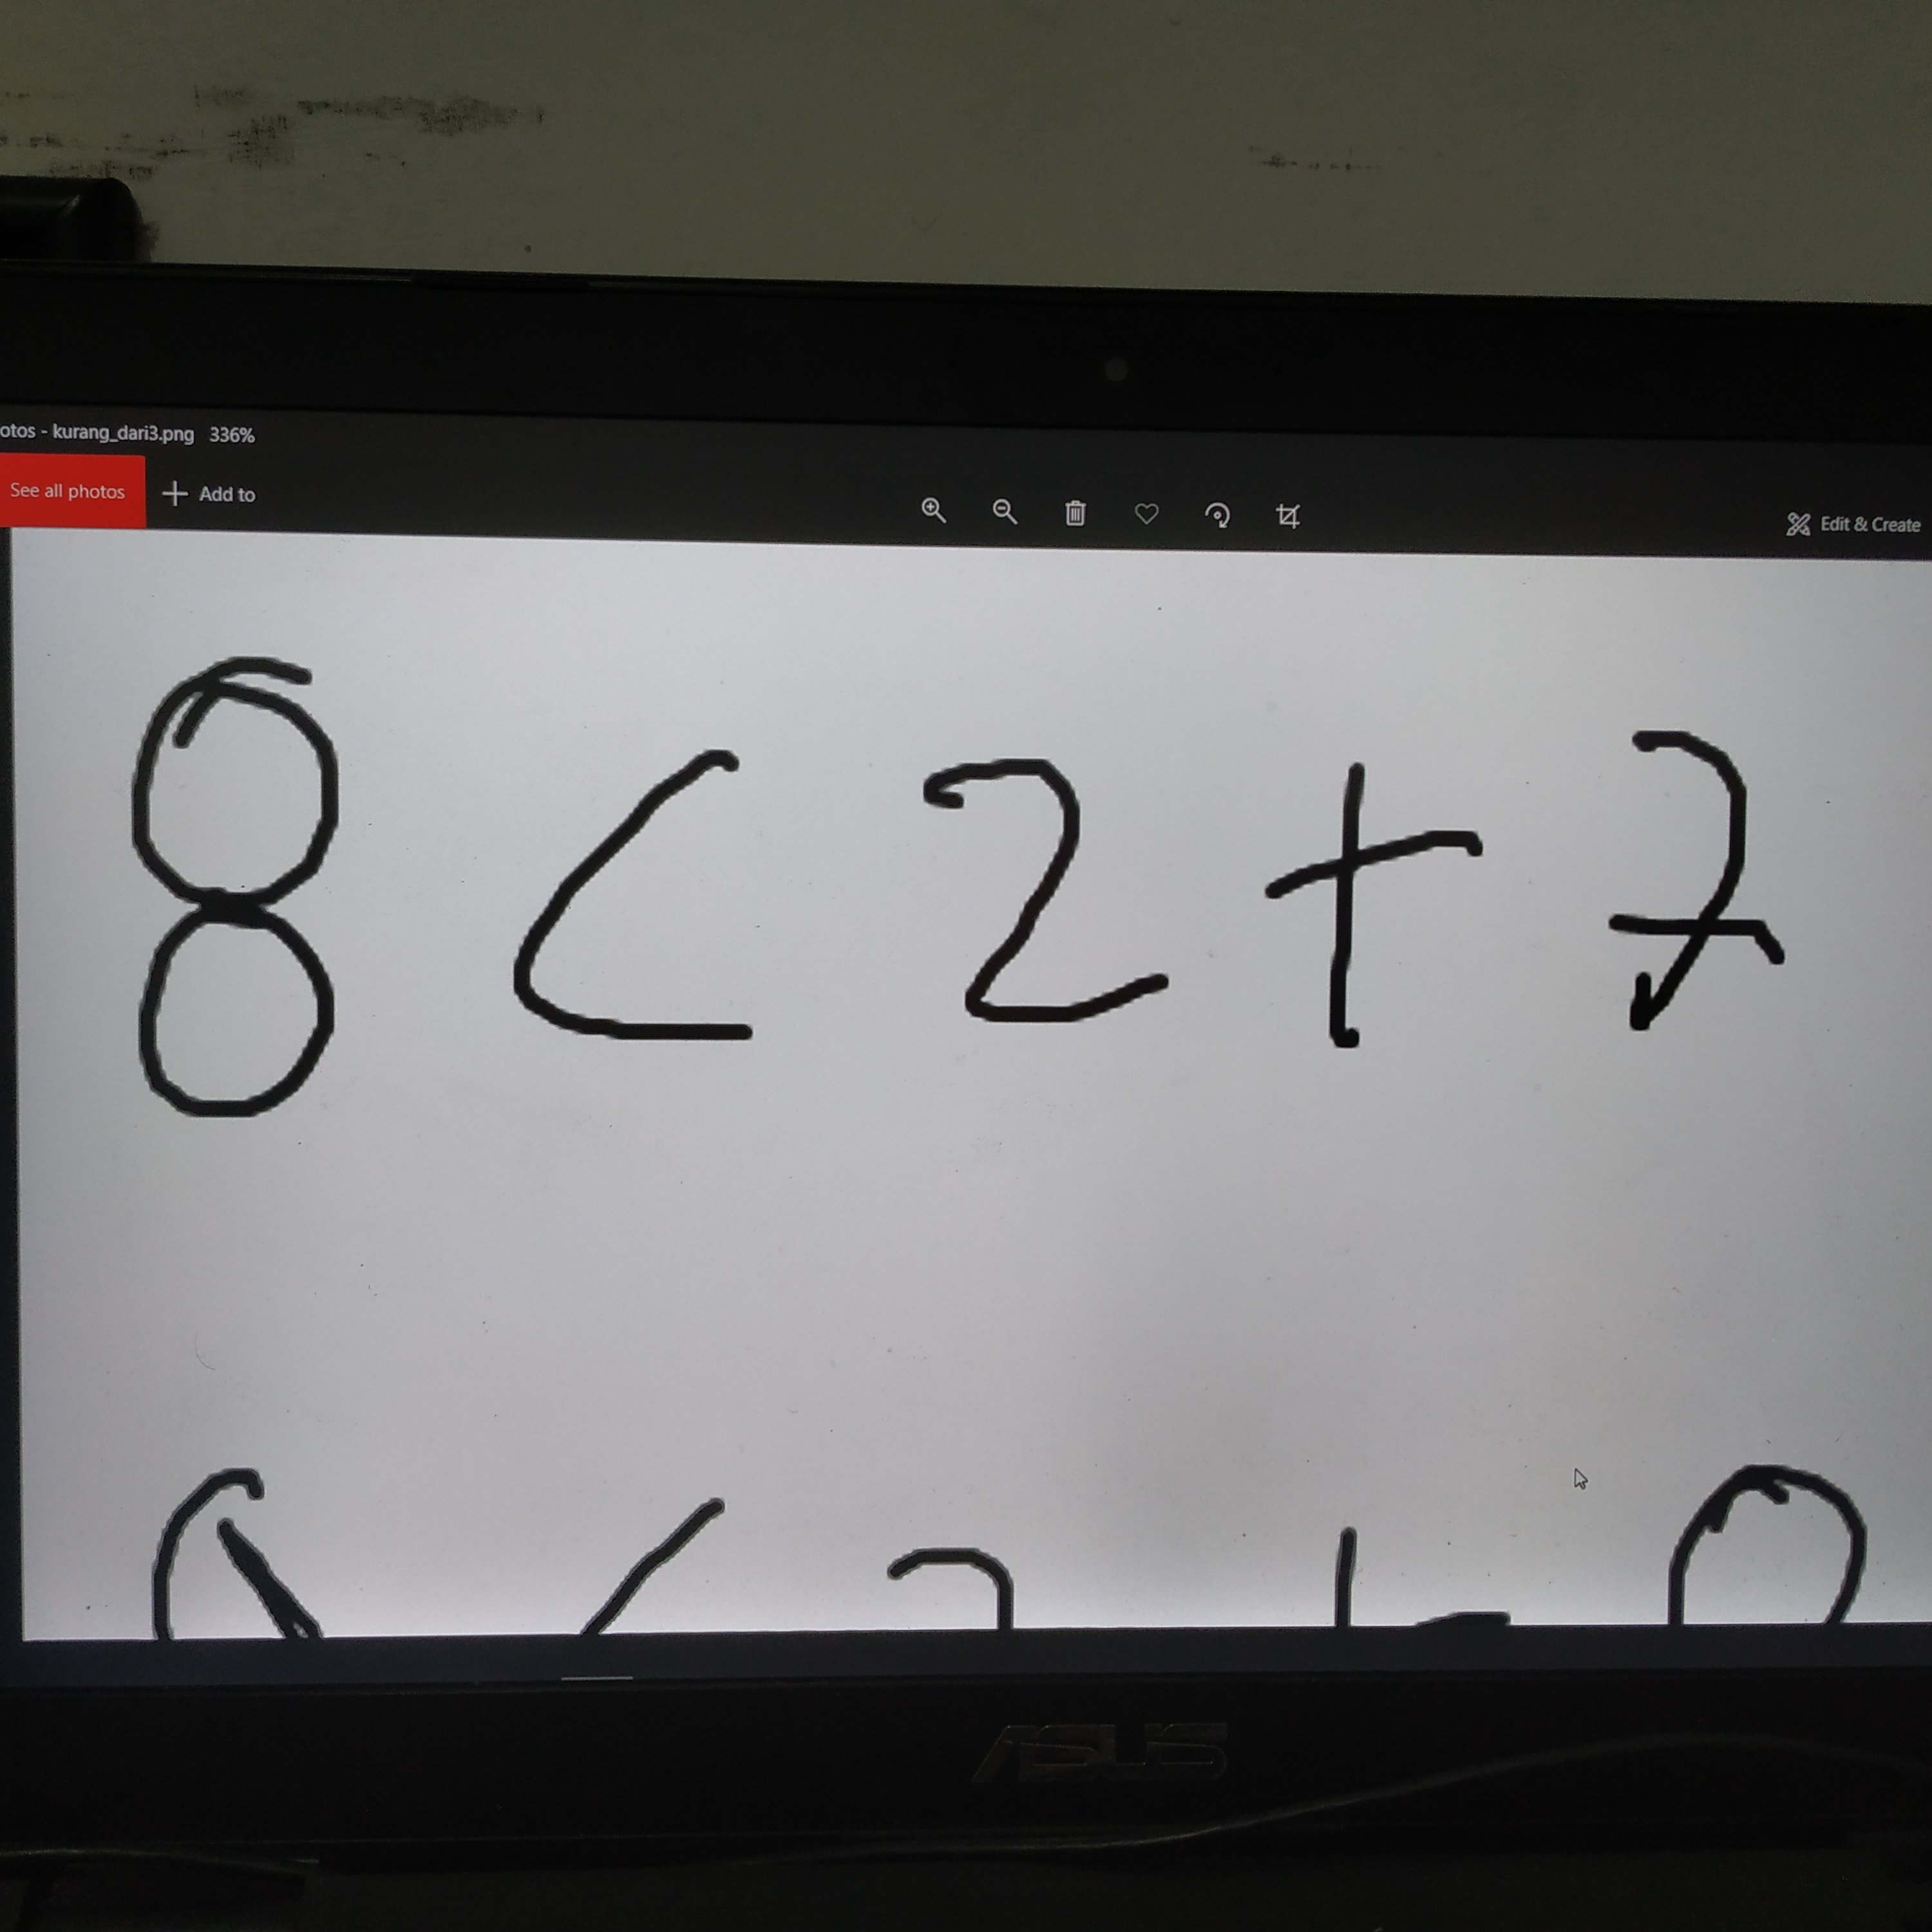lessthan: (512, 739, 775, 1053)
num2: (895, 747, 1201, 1026)
num7: (1582, 708, 1827, 1045)
num8: (106, 643, 379, 1132)
sum: (1244, 747, 1503, 1071)
